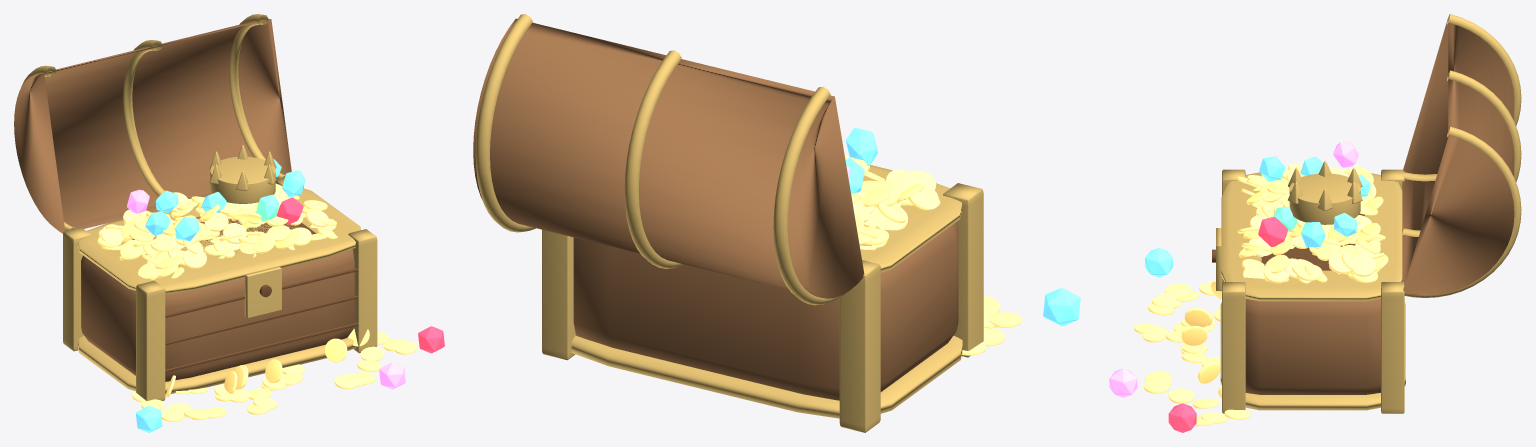
Rendered from treasurechest.glb.
3 views of the same model, side by side, from view 1: azimuth 30°, elevation 25°; view 2: azimuth 150°, elevation 25°; view 3: azimuth 270°, elevation 25° (orthographic). The views are drawn at different scales.
Visible parts, largest first — view 1: TreasureChest_Wood.001, TreasureChest_Wood, TreasureChest_Gold.011, TreasureChest_Gold.006, TreasureChest_Gold.010, TreasureChest_Gold.008, TreasureChest_Gold.007, TreasureChest_Gold.013, TreasureChest_Gold.015, TreasureChest_Gold.016, TreasureChest_Gold.012, TreasureChest_WoodDark.001 (+12 smaller); view 2: TreasureChest_Wood.001, TreasureChest_Wood, TreasureChest_Gold.010, TreasureChest_Gold.007, TreasureChest_Gold.006, TreasureChest_Gold.009, TreasureChest_Gold.014, TreasureChest_Gold.015, TreasureChest_Gold.016, TreasureChest_Gold.011, TreasureChest_Sapphire.007, TreasureChest_Sapphire.002; view 3: TreasureChest_Wood.001, TreasureChest_Wood, TreasureChest_Gold.011, TreasureChest_Gold.009, TreasureChest_Gold.008, TreasureChest_Gold.010, TreasureChest_Gold.013, TreasureChest_Gold.016, TreasureChest_Gold.014, TreasureChest_Gold.015, TreasureChest_Ruby.001, TreasureChest_Amethyst.001 (+10 smaller).
Boxes of the visible parts, box(x1,y1,x2,y2) form: TreasureChest_Wood.001: box(14, 19, 291, 232); TreasureChest_Wood: box(81, 249, 354, 381); TreasureChest_Gold.011: box(78, 184, 360, 294); TreasureChest_Gold.006: box(136, 280, 165, 400); TreasureChest_Gold.010: box(78, 336, 355, 394); TreasureChest_Gold.008: box(348, 229, 377, 353); TreasureChest_Gold.007: box(63, 227, 91, 351); TreasureChest_Gold.013: box(210, 157, 275, 203); TreasureChest_Gold.015: box(123, 40, 164, 196); TreasureChest_Gold.016: box(229, 14, 285, 179); TreasureChest_Gold.012: box(244, 266, 281, 317); TreasureChest_WoodDark.001: box(165, 295, 358, 345); TreasureChest_Wood.001: box(473, 18, 864, 298); TreasureChest_Wood: box(573, 223, 958, 400); TreasureChest_Gold.010: box(571, 335, 962, 418); TreasureChest_Gold.007: box(839, 260, 880, 432); TreasureChest_Gold.006: box(943, 183, 983, 357); TreasureChest_Gold.009: box(542, 229, 575, 360); TreasureChest_Gold.014: box(773, 86, 848, 305); TreasureChest_Gold.015: box(624, 50, 684, 268); TreasureChest_Gold.016: box(475, 14, 535, 232); TreasureChest_Gold.011: box(859, 165, 961, 272); TreasureChest_Sapphire.007: box(1043, 288, 1080, 326); TreasureChest_Sapphire.002: box(846, 127, 877, 165); TreasureChest_Wood.001: box(1402, 17, 1514, 295); TreasureChest_Wood: box(1245, 298, 1380, 394); TreasureChest_Gold.011: box(1221, 172, 1402, 301); TreasureChest_Gold.009: box(1381, 282, 1404, 413); TreasureChest_Gold.008: box(1222, 282, 1245, 413); TreasureChest_Gold.010: box(1220, 302, 1405, 410); TreasureChest_Gold.013: box(1289, 173, 1360, 224); TreasureChest_Gold.016: box(1403, 126, 1521, 297); TreasureChest_Gold.014: box(1403, 14, 1521, 181); TreasureChest_Gold.015: box(1402, 70, 1521, 236); TreasureChest_Ruby.001: box(1168, 403, 1196, 432); TreasureChest_Amethyst.001: box(1109, 368, 1137, 397).
Bounding box in the file's own units: 3.35 × 2.63 × 3.47.
